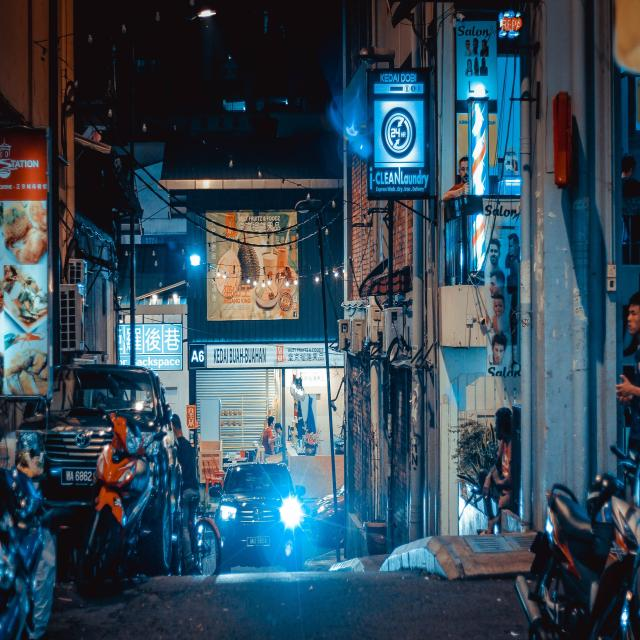Street Light: (129, 9, 217, 410), (295, 199, 341, 563)
